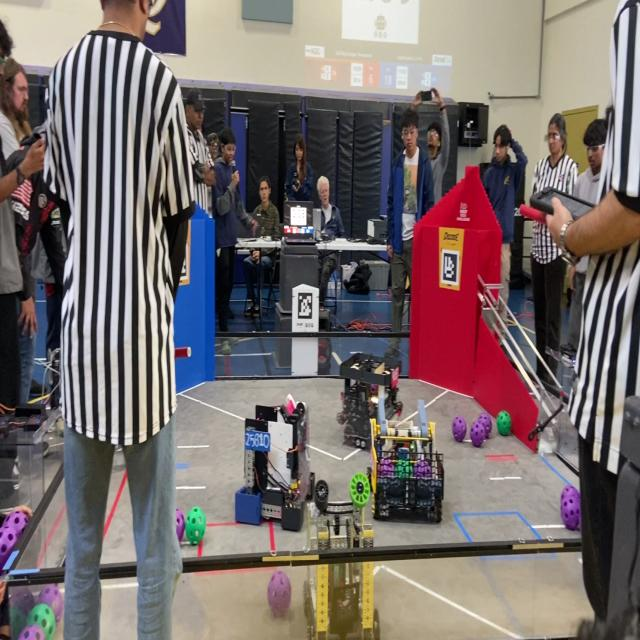artifact_green: (9, 586, 37, 625), (27, 604, 55, 639), (185, 507, 206, 545), (350, 473, 370, 508), (10, 605, 26, 637), (314, 480, 329, 512), (496, 411, 511, 436), (18, 626, 45, 639), (396, 460, 411, 477), (56, 418, 65, 437), (398, 447, 408, 461), (395, 460, 403, 477), (404, 462, 412, 477), (404, 464, 412, 478), (403, 460, 411, 472), (397, 467, 405, 478), (394, 465, 400, 477), (399, 459, 409, 466), (396, 458, 404, 466), (403, 460, 411, 468), (410, 442, 416, 452)
artifact_purple: (268, 571, 291, 617), (39, 585, 63, 622), (561, 487, 580, 530), (0, 525, 18, 570), (10, 587, 35, 616), (3, 511, 28, 538), (470, 421, 485, 447), (452, 416, 466, 442), (478, 413, 492, 439), (19, 626, 45, 639), (415, 460, 431, 479), (378, 459, 393, 477), (177, 509, 185, 542), (561, 485, 574, 498)
